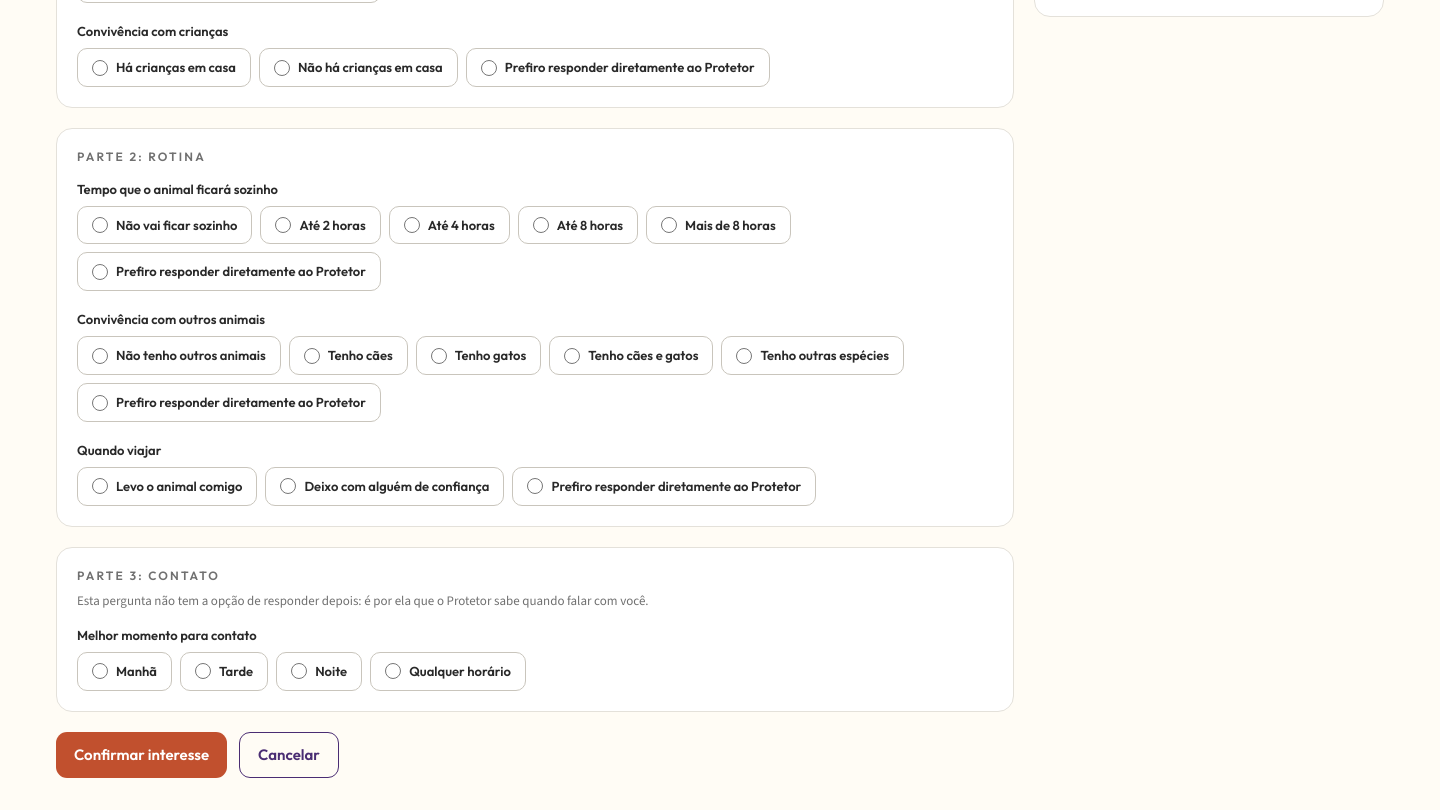
it: sem aceite e sem respostas, não envia e leva o foco pro primeiro erro
(page scrolled)
Click the button "Confirmar interesse" at x=142, y=755, box [56,732,227,778]
(page scrolled)
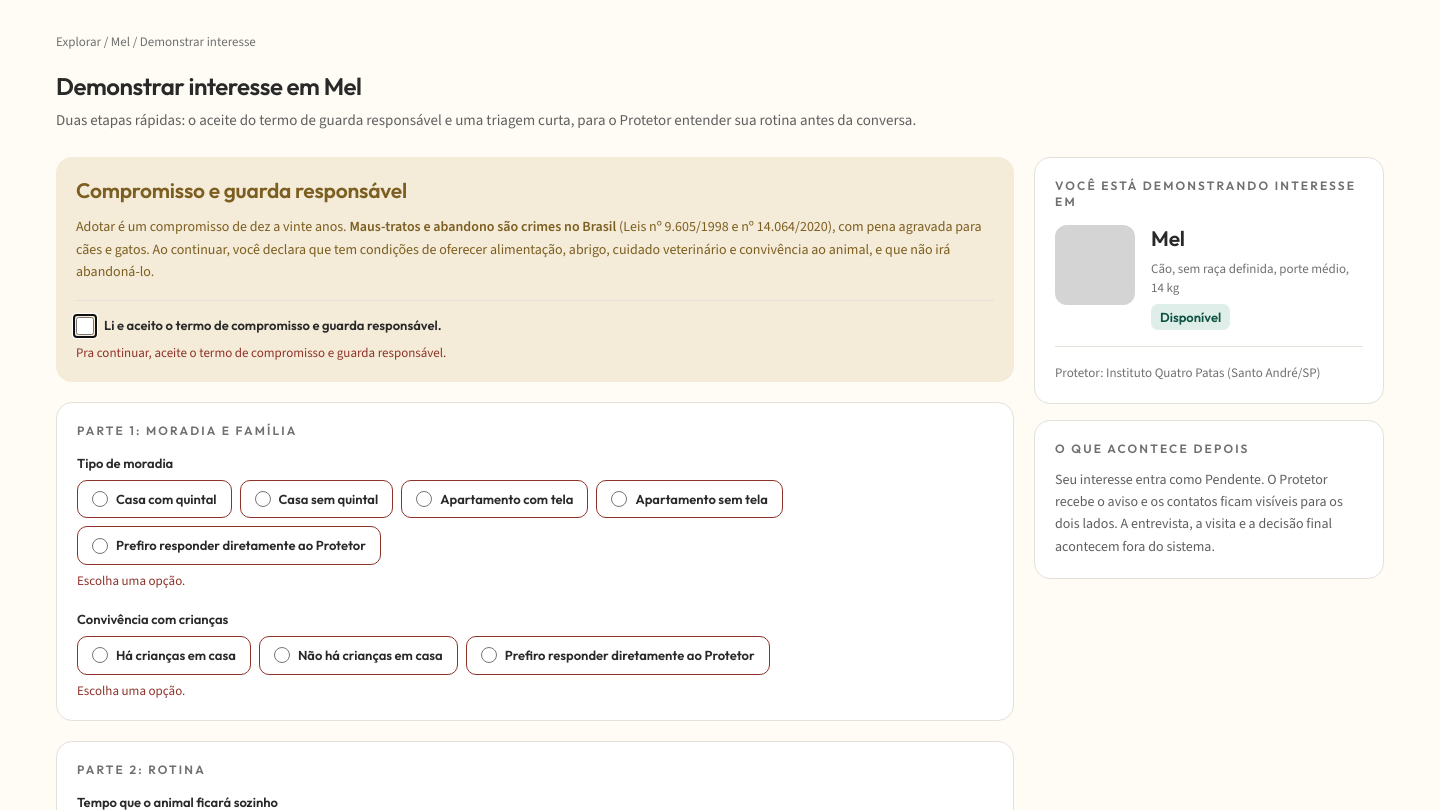
expect the text "Pra continuar, aceite o termo" is shown: met, box [76,344,446,360]
expect the text "Escolha uma opção." is shown 6 times: met
